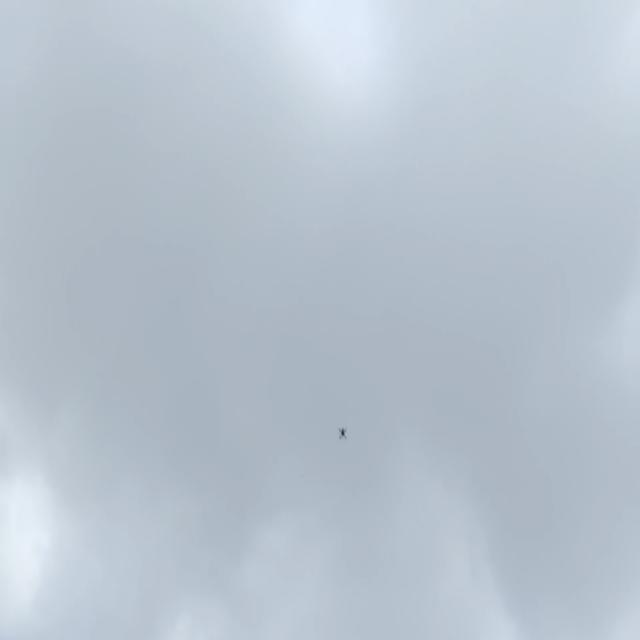drone: (336, 426, 348, 444)
